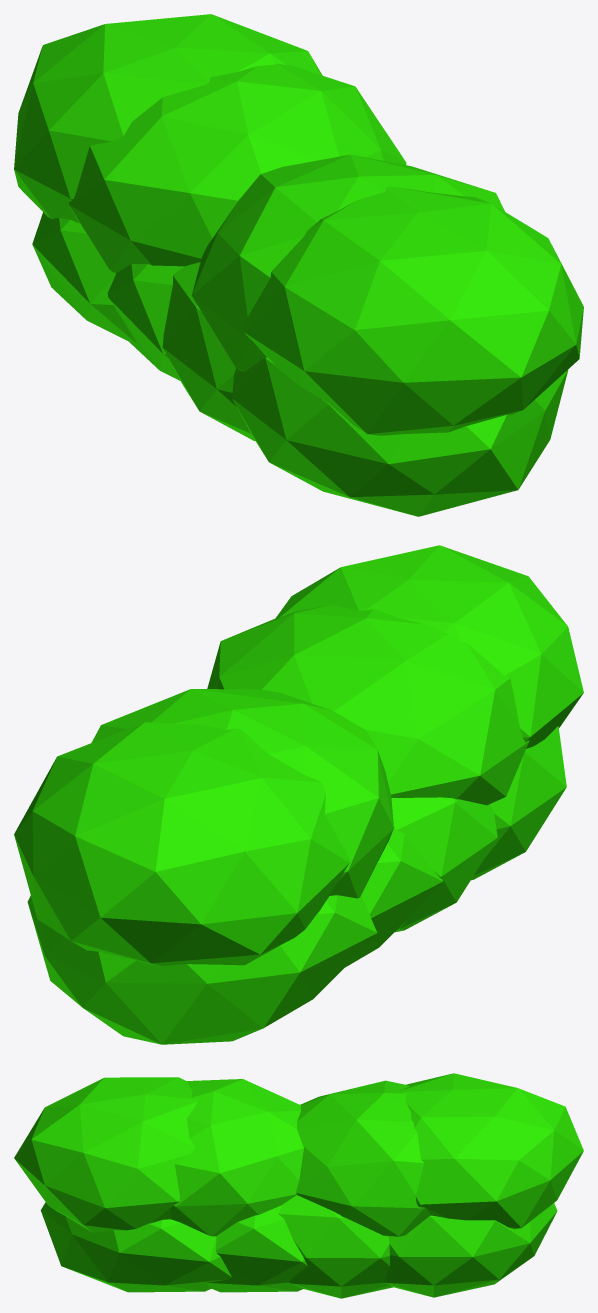
File: shrubs1.fbx
3 views of the same model, one above another, from view 1: azimuth 30°, elevation 25°; view 2: azimuth 150°, elevation 25°; view 3: azimuth 270°, elevation 25° (orthographic). The views are drawn at different scales.
Visible parts, largest first — view 1: Icosphere.001; view 2: Icosphere.001; view 3: Icosphere.001.
Part boxes in pixels (x1=…): Icosphere.001: x1=14, y1=14, x2=583, y2=516; Icosphere.001: x1=14, y1=545, x2=583, y2=1044; Icosphere.001: x1=14, y1=1073, x2=583, y2=1298.
Size of the model in its own units: 814 by 771 by 2059.
